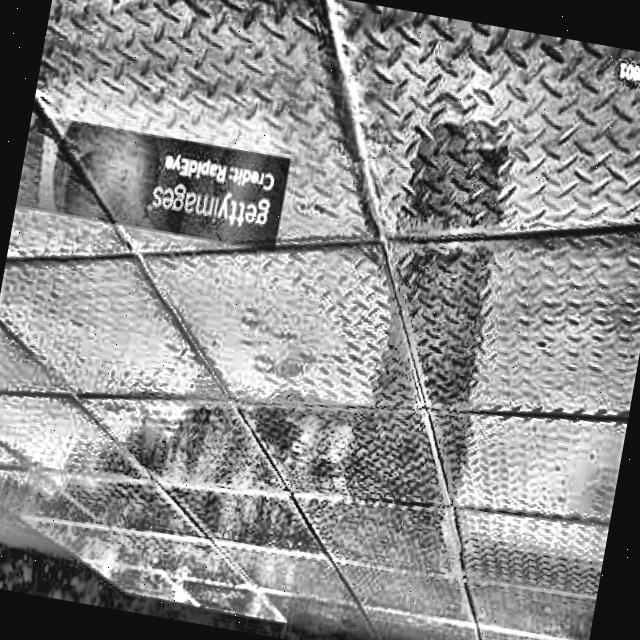slippery ground: (168, 358, 548, 600)
